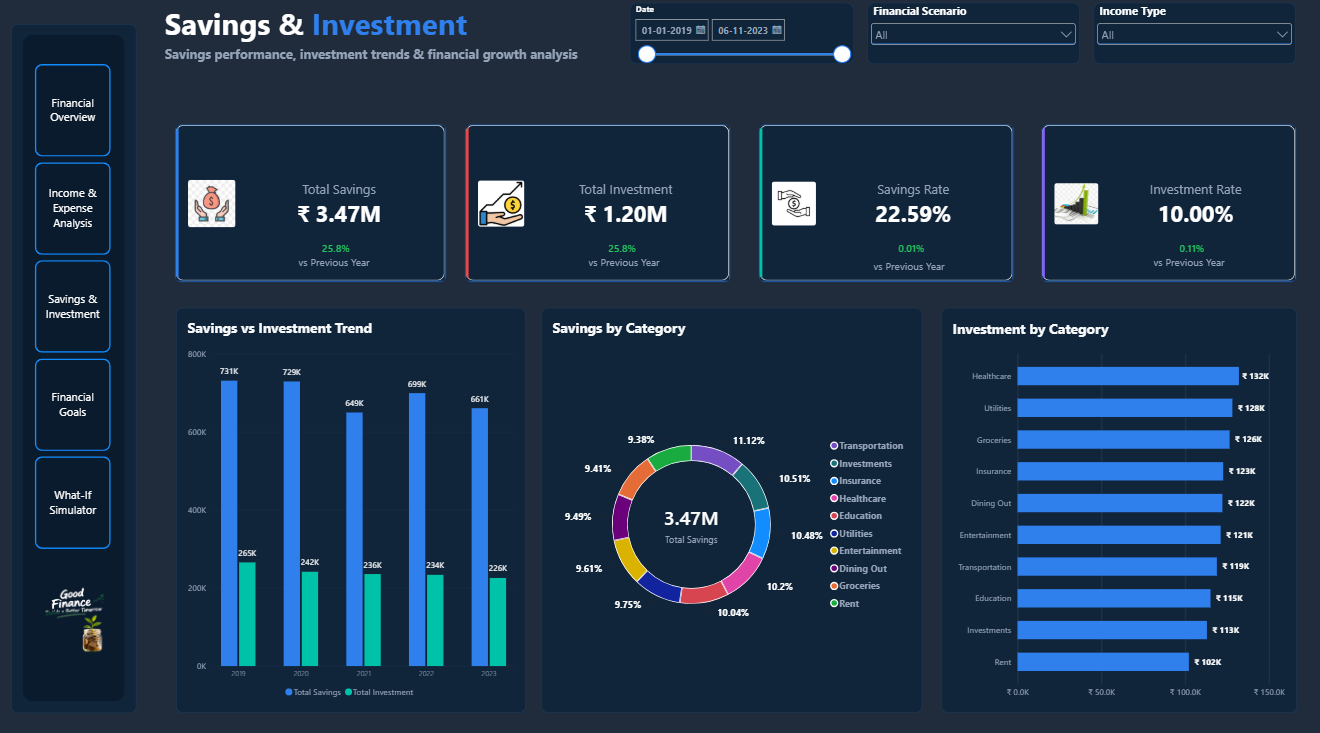

This screenshot's page, from the dashboard's own definition file:
{"tool":"powerbi","page":{"name":"Savings & Investment","canvas":[1920,1080],"ordinal":2},"visuals":[{"type":"shape","title":"Financial S","box":[21.6,43.3,181.8,997.7],"z":0},{"type":"textbox","box":[244.5,13,558.3,60.6],"z":1000},{"type":"textbox","box":[244.5,73.6,625.4,58.4],"z":2000},{"type":"cardVisual","fields":{"Data":["_Measure.Total Savings"]},"box":[258.8,188.2,393.9,229.4],"z":3000},{"type":"cardVisual","fields":{"Data":["_Measure.Total Investment"]},"box":[678.1,188.3,385.2,229.4],"z":4000},{"type":"cardVisual","fields":{"Data":["_Measure.Average Savings Rate"]},"box":[1103,188.3,370.1,229.4],"z":5000},{"type":"cardVisual","fields":{"Data":["_Measure.Investment Rate"]},"box":[1512.7,188.3,370.1,229.4],"z":6000},{"type":"slicer","fields":{"Values":["DateTable.Date"]},"box":[917.5,12.7,323.9,88.7],"z":7000},{"type":"slicer","fields":{"Values":["financial_data.financial_scenario"]},"box":[1261.3,12.7,307.6,88.7],"z":8000},{"type":"slicer","fields":{"Values":["financial_data.income_type"]},"box":[1588.9,12.7,293.2,88.7],"z":9000},{"type":"clusteredColumnChart","title":"Savings vs Investment Trend","fields":{"Y":["_Measure.Total Savings","_Measure.Total Investment"],"Category":["DateTable.Year"]},"box":[259.7,454.5,506.4,586.5],"z":10000},{"type":"cardVisual","fields":{"Data":["_Measure.Savings Growth %"]},"box":[456.6,354.9,73.6,26],"z":11000},{"type":"cardVisual","fields":{"Data":["_Measure.Savings Rate Growth %"]},"box":[1289.8,354.9,73.6,26],"z":12000},{"type":"cardVisual","fields":{"Data":["_Measure.Investment Rate Growth %"]},"box":[1696.7,354.9,73.6,26],"z":13000},{"type":"textbox","box":[1675,378.7,121.2,28.1],"z":14000},{"type":"textbox","box":[1270.4,383.1,110.4,27.1],"z":15000},{"type":"textbox","box":[437.2,378.7,121.2,28.1],"z":16000},{"type":"textbox","box":[857,378.7,121.2,28.1],"z":17000},{"type":"cardVisual","fields":{"Data":["_Measure.Investment Growth %"]},"box":[870,354.9,73.6,26],"z":18000},{"type":"pageNavigator","box":[56.3,101.7,110.4,703.3],"z":19000},{"type":"donutChart","title":"Savings by Category","fields":{"Category":["financial_data.category"],"Y":["_Measure.Total Savings"]},"box":[789.9,454.5,551.9,586.5],"z":20000},{"type":"clusteredBarChart","title":"Investment by Category","fields":{"Category":["financial_data.category"],"Y":["_Measure.Total Investment"]},"box":[1367.7,454.5,515.1,586.5],"z":21000},{"type":"image","box":[56.3,831,110.4,153.7],"z":21001}]}

Visuals, with their boxes in screenshot pixels (x1, y1, x2, y2), scaled from the page's 1920x1080 canvas onto the 1320x733 screenshot:
"Financial S" shape: [15,29,140,707]
textbox: [168,9,552,50]
textbox: [168,50,598,90]
cardVisual - _Measure.Total Savings: [178,128,449,283]
cardVisual - _Measure.Total Investment: [466,128,731,283]
cardVisual - _Measure.Average Savings Rate: [758,128,1013,283]
cardVisual - _Measure.Investment Rate: [1040,128,1294,283]
slicer - DateTable.Date: [631,9,853,69]
slicer - financial_data.financial_scenario: [867,9,1079,69]
slicer - financial_data.income_type: [1092,9,1294,69]
"Savings vs Investment Trend" clusteredColumnChart: [179,308,527,707]
cardVisual - _Measure.Savings Growth %: [314,241,365,259]
cardVisual - _Measure.Savings Rate Growth %: [887,241,937,259]
cardVisual - _Measure.Investment Rate Growth %: [1166,241,1217,259]
textbox: [1152,257,1235,276]
textbox: [873,260,949,278]
textbox: [301,257,384,276]
textbox: [589,257,673,276]
cardVisual - _Measure.Investment Growth %: [598,241,649,259]
pageNavigator: [39,69,115,546]
"Savings by Category" donutChart: [543,308,922,707]
"Investment by Category" clusteredBarChart: [940,308,1294,707]
image: [39,564,115,668]
